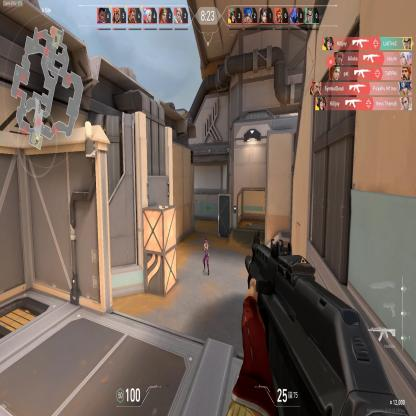enemy: (201, 236, 210, 278)
